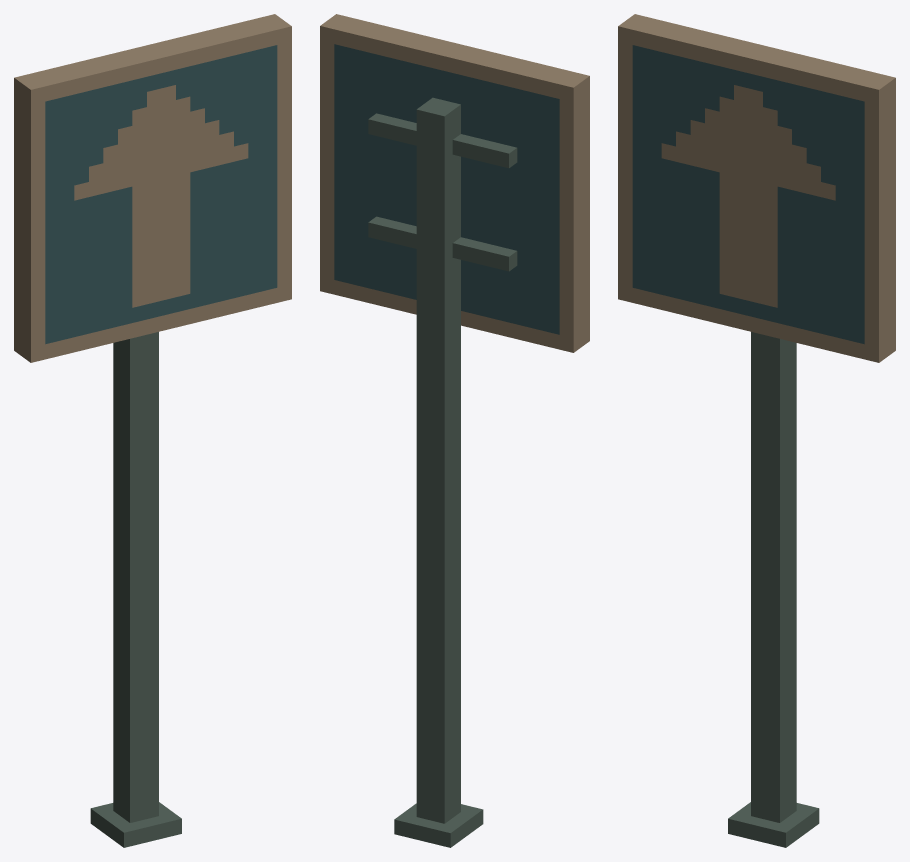
The model's file is cars_sign_60.glb.
The picture shows the model from 3 angles, left to right: view 1: azimuth 30°, elevation 25°; view 2: azimuth 150°, elevation 25°; view 3: azimuth 330°, elevation 25°; orthographic projection. The views are drawn at different scales.
Visible parts, largest first — view 1: cars_sign_60; view 2: cars_sign_60; view 3: cars_sign_60.
Part boxes in pixels (x1,y1,x2,y2): cars_sign_60: (14, 14, 291, 847); cars_sign_60: (320, 14, 589, 847); cars_sign_60: (618, 14, 895, 847).
Bounding box in the file's own units: 0.9 × 2.6 × 0.25.
Materials: 1 (1 with a texture image).
